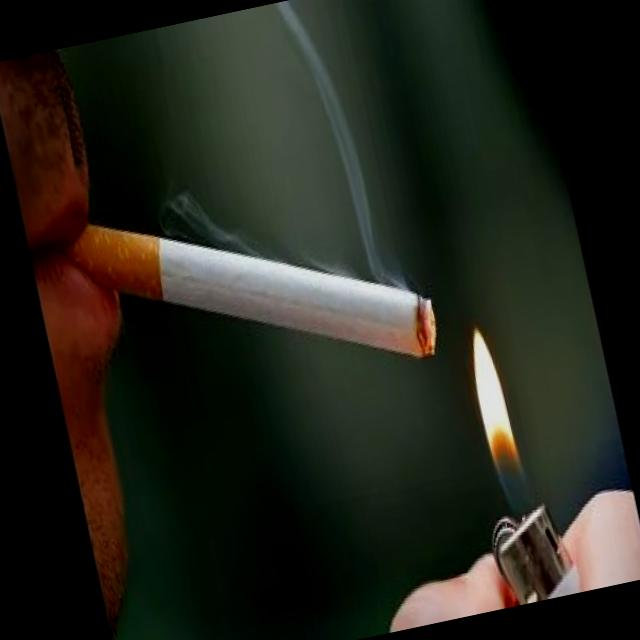smoke: (59, 144, 446, 434)
